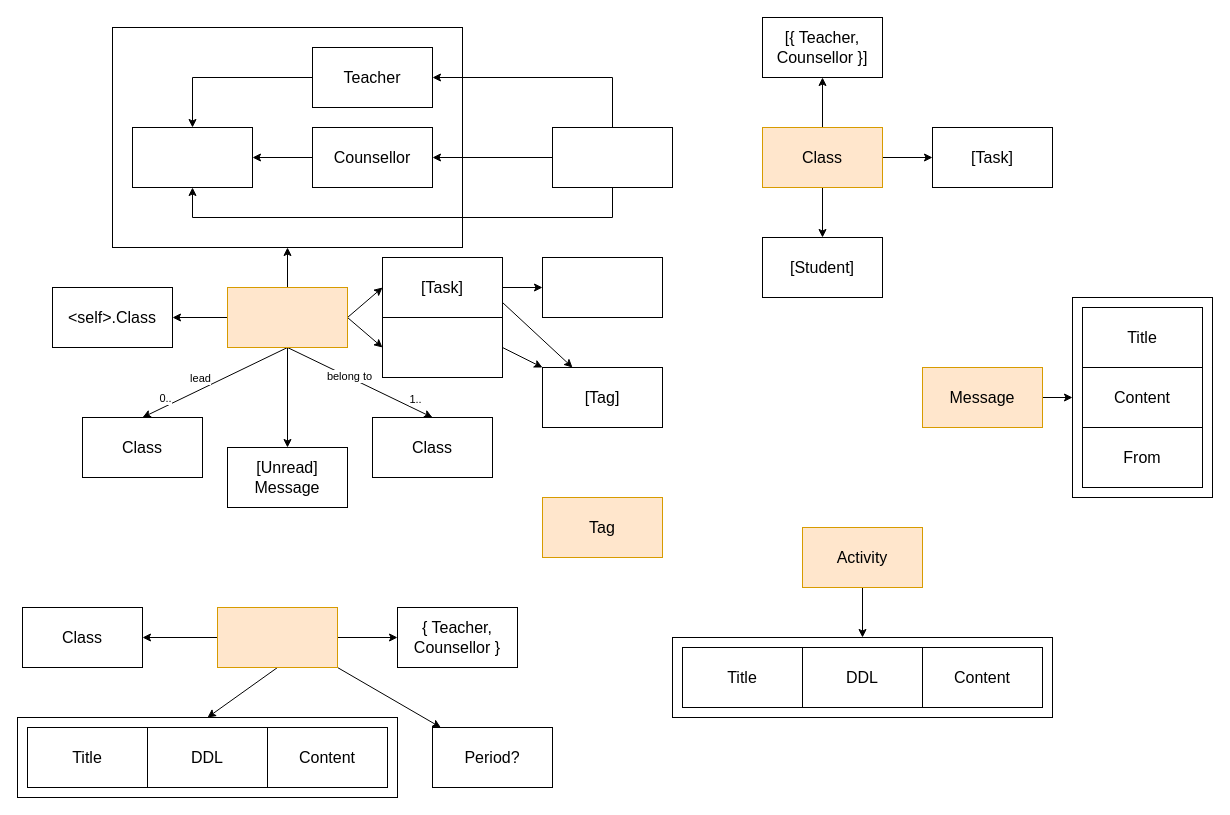
Some shapes in this 1230 by 815 pixel diagram are drawn without their labels. Each missing label, with the centre of its shape:
[Activity]: the point at 442,347
Admin: the point at 612,157
Student: the point at 192,157
Task: the point at 277,637
Task Completion: the point at 602,287
User: the point at 287,317
